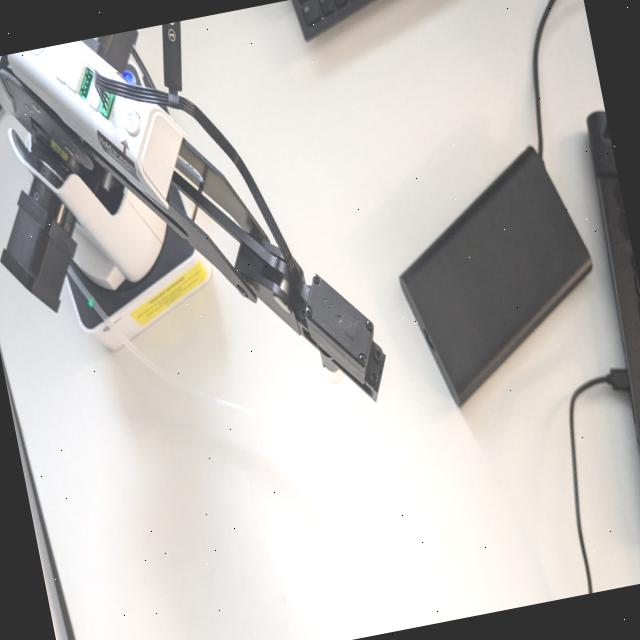Robot-end-effector-HF8z: (294, 258, 398, 416)
